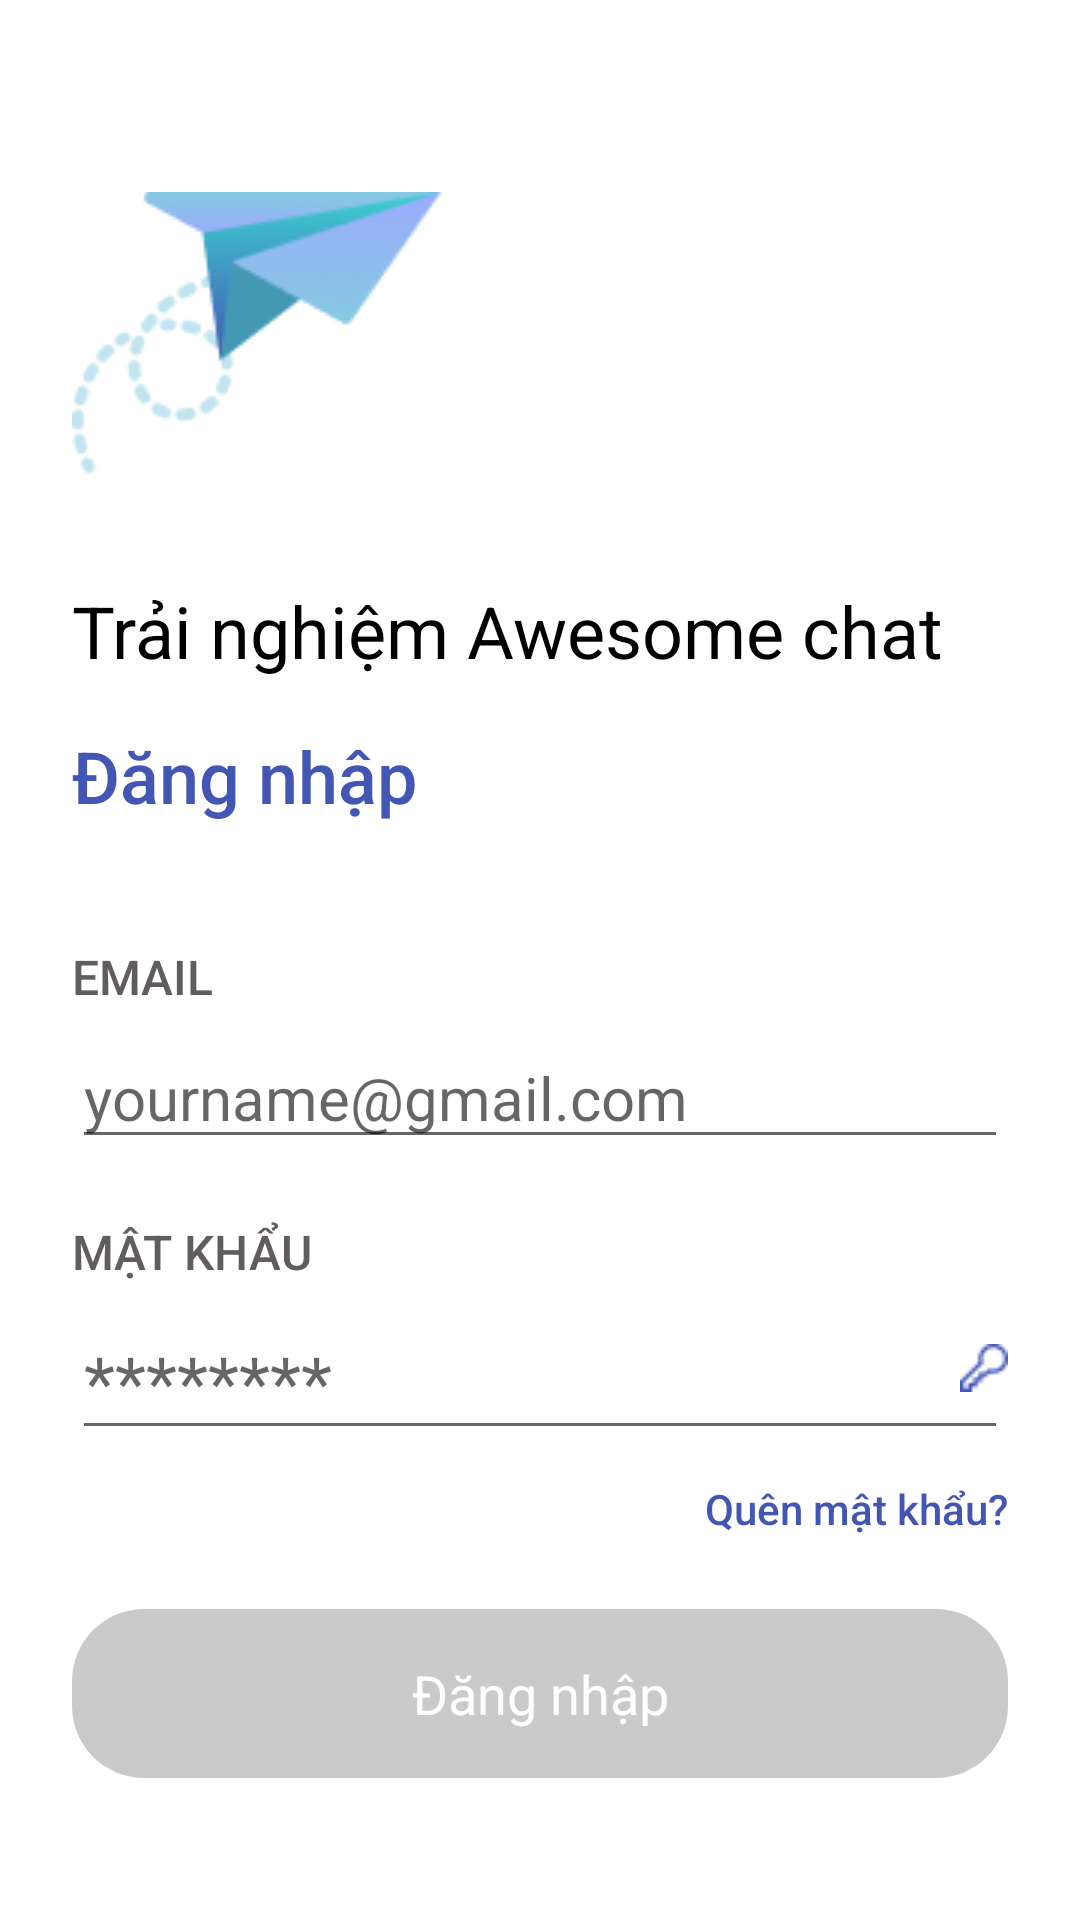

Icons on this 1080 × 1920 Android screen, each with its box as region(x1, y1, x2, y2):
password: region(960, 1344, 1008, 1392)
